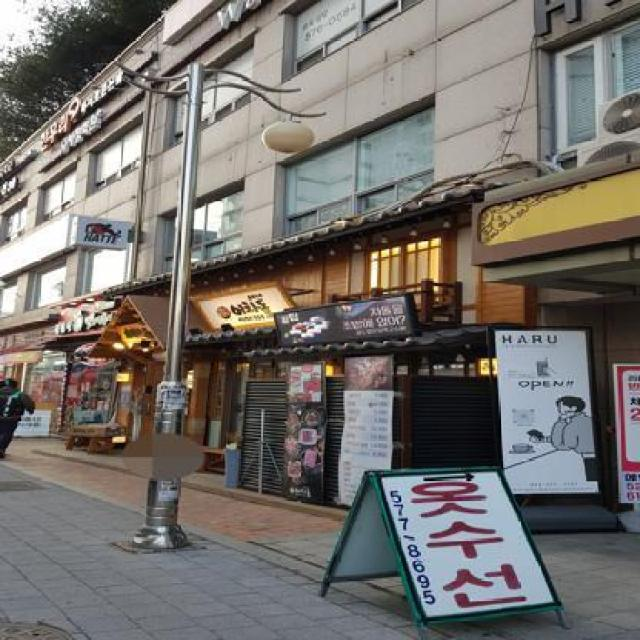pole: (143, 57, 229, 560)
